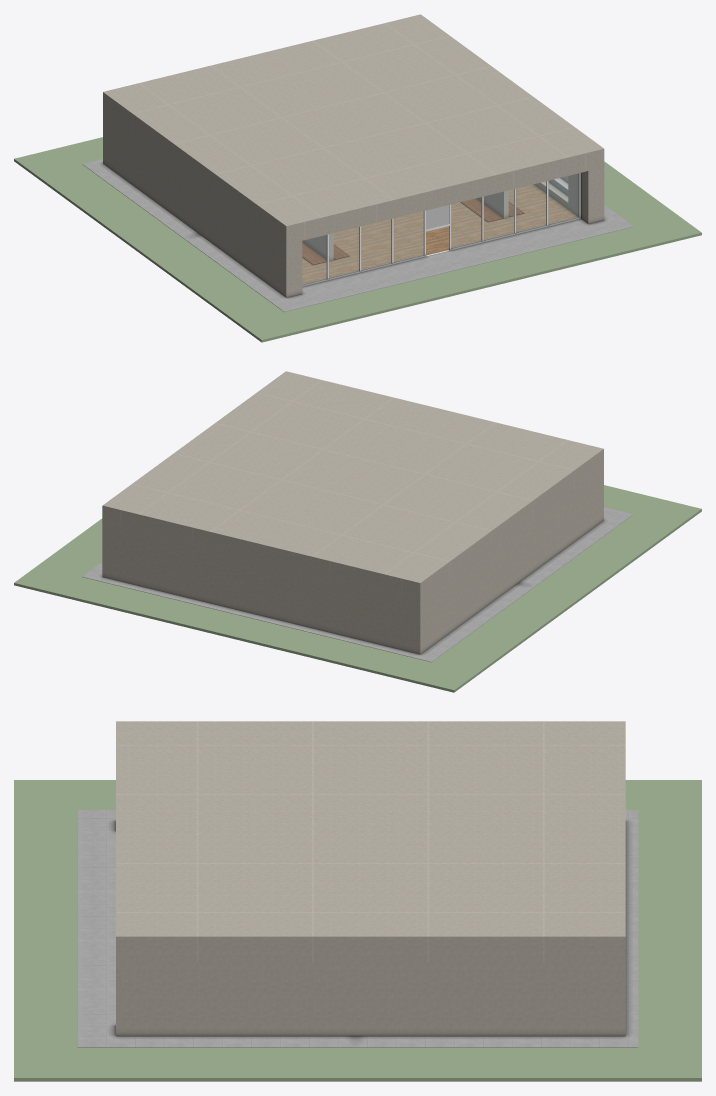
The model's file is galerie.glb.
3 renders of one model, top to bottom at view 1: azimuth 30°, elevation 25°; view 2: azimuth 150°, elevation 25°; view 3: azimuth 270°, elevation 25°, orthographic. The views are drawn at different scales.
Visible parts, largest first — view 1: Mesh Store (×7), sol d'essai; view 2: Mesh Store (×4), sol d'essai; view 3: Mesh Store (×4), sol d'essai.
Boxes of the visible parts, box(x1,y1,x2,y2) form: Mesh Store (×7): box(82, 14, 633, 312); sol d'essai: box(14, 137, 701, 342); Mesh Store (×4): box(82, 371, 633, 662); sol d'essai: box(14, 485, 701, 692); Mesh Store (×4): box(77, 721, 638, 1047); sol d'essai: box(14, 780, 701, 1081).
Bounding box in the file's own units: 55.39 × 8.96 × 54.
Materials: 15 (14 with a texture image).
